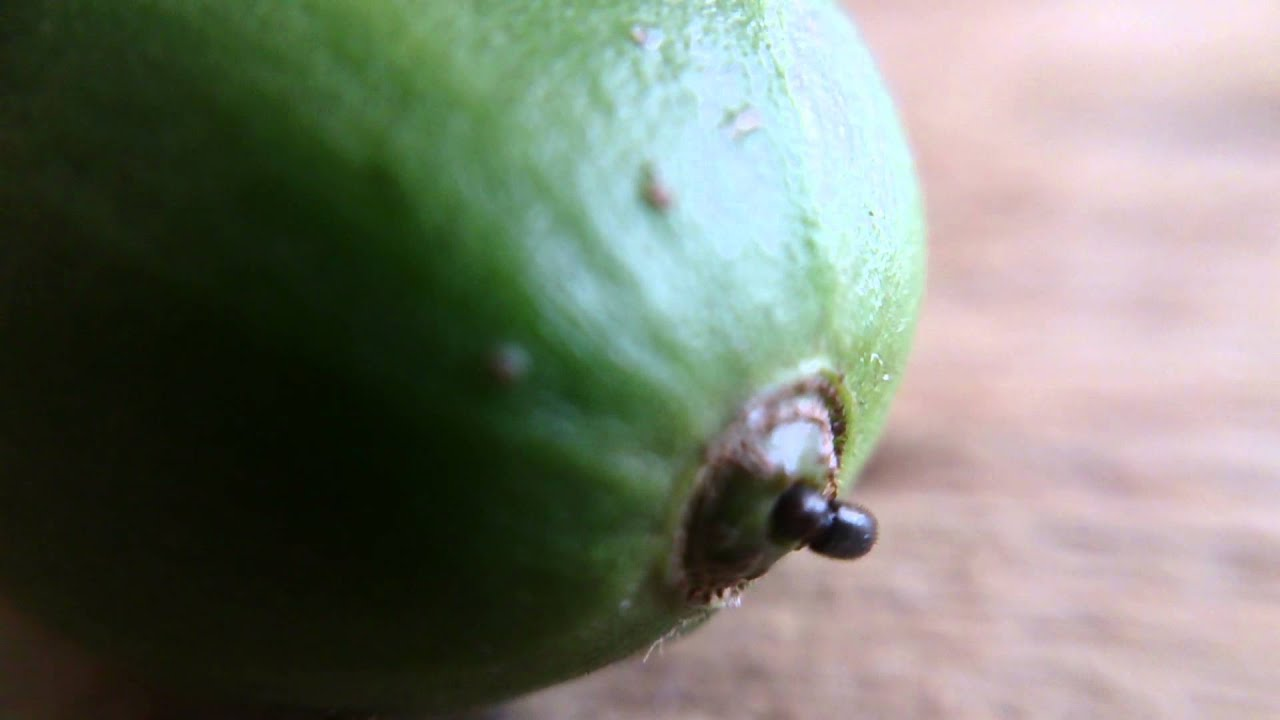broca de cafe: (518, 151, 1115, 628)
